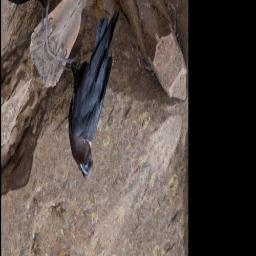Crow: (35, 0, 152, 186)
